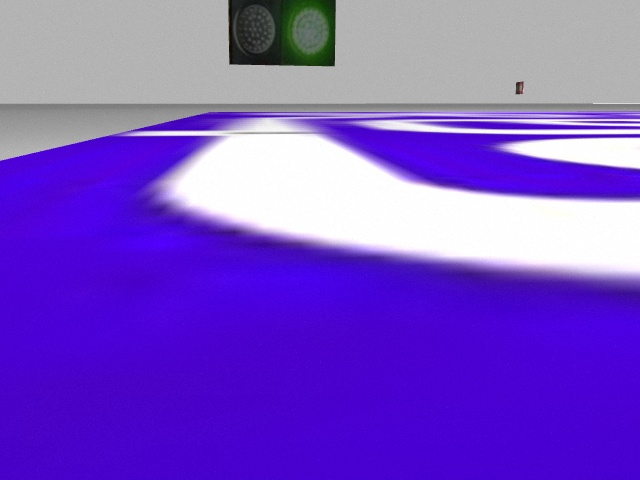green: (279, 3, 336, 64)
